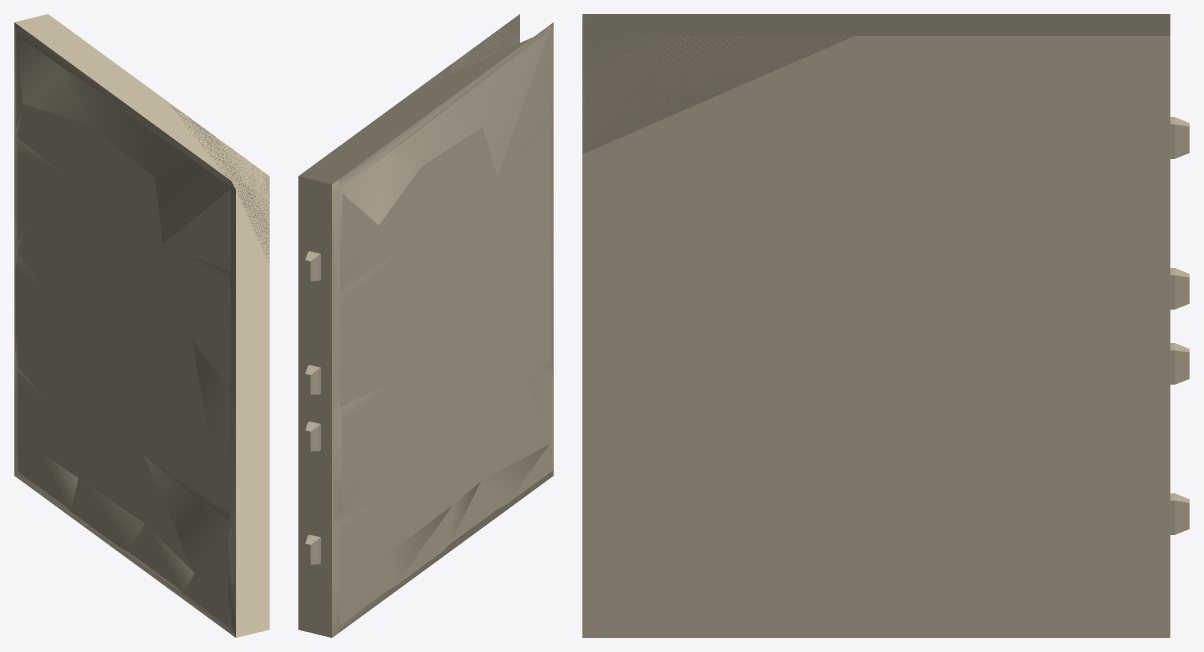
Rendered from Door.FBX.
3 renders of one model, left to right at view 1: azimuth 30°, elevation 25°; view 2: azimuth 150°, elevation 25°; view 3: azimuth 270°, elevation 25°, orthographic. The views are drawn at different scales.
Parts seen in each view (by area): view 1: Box072; view 2: Box072; view 3: Box072.
Boxes of the visible parts, x1,y1,x2,y2 form: Box072: (14, 14, 269, 637); Box072: (298, 14, 553, 637); Box072: (582, 14, 1189, 637).
Size of the model in its own units: 6.91 by 44.77 by 40.93.
